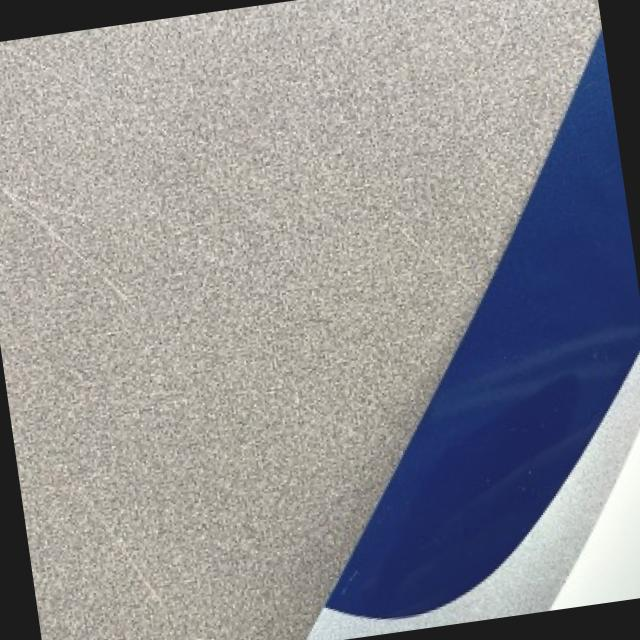healthy: (0, 0, 602, 640), (310, 33, 640, 640)
